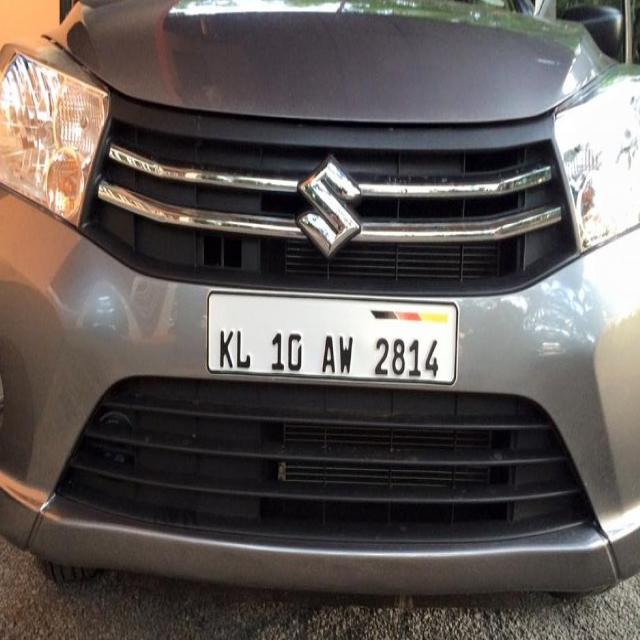Plate: (208, 290, 460, 383)
